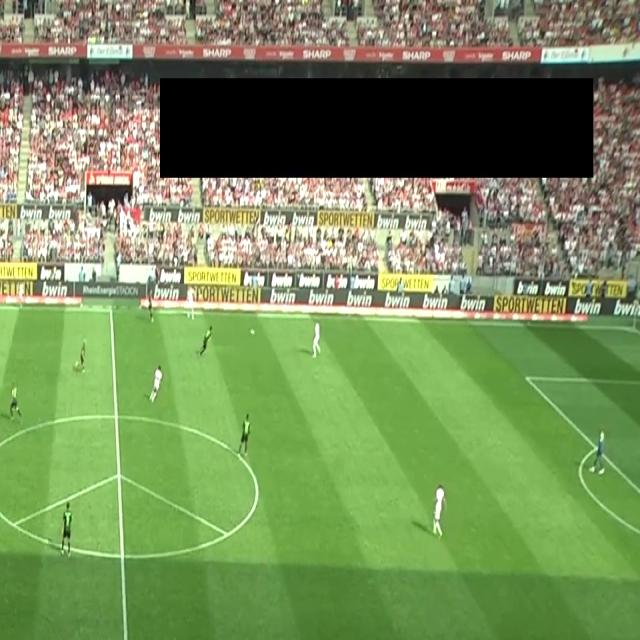ball: (250, 324, 256, 340)
goalkeeper: (588, 425, 607, 474)
referee: (0, 392, 3, 453)
soccer-player: (428, 477, 450, 546), (58, 493, 74, 566), (148, 358, 166, 414), (238, 404, 255, 461), (198, 316, 214, 367), (73, 335, 89, 381), (10, 379, 24, 424), (311, 318, 325, 356)
